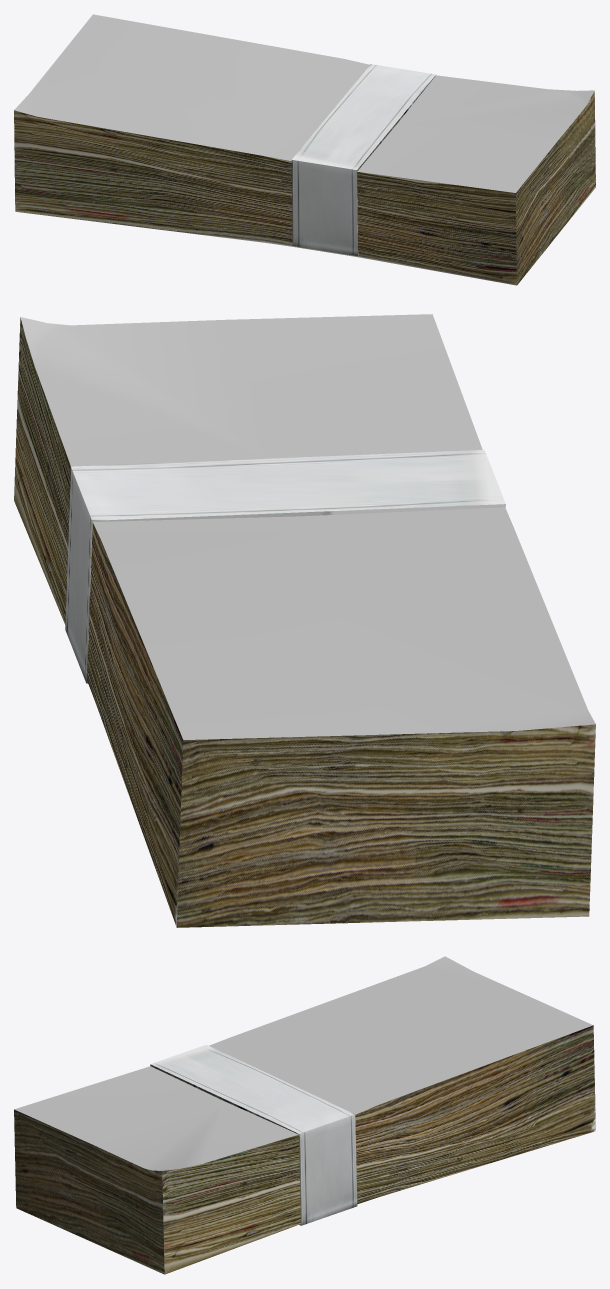
File: money_big.fbx
3 views of the same model, one above another, from view 1: azimuth 30°, elevation 25°; view 2: azimuth 150°, elevation 25°; view 3: azimuth 270°, elevation 25° (orthographic). The views are drawn at different scales.
Parts seen in each view (by area): view 1: Cube.002; view 2: Cube.002; view 3: Cube.002.
Part boxes in pixels (x1,y1,x2,y2): Cube.002: (14,14,595,285); Cube.002: (14,314,595,927); Cube.002: (14,956,595,1274).
Size of the model in its own units: 329 by 80.01 by 356.
